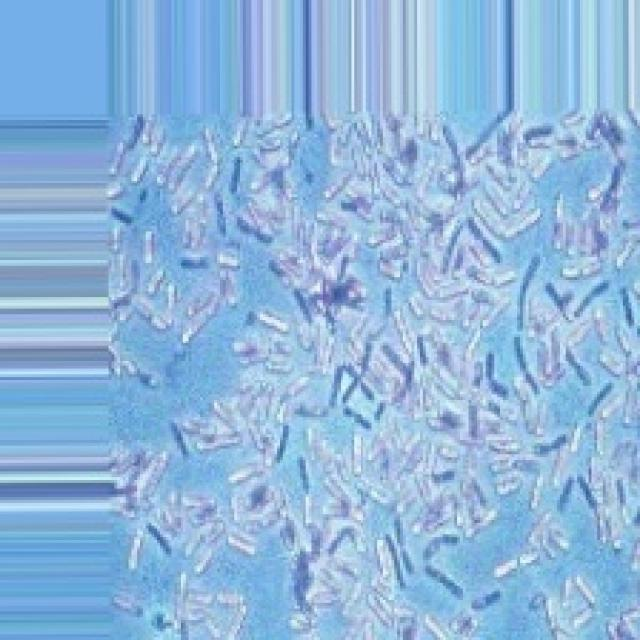Rod_bacteria: (100, 103, 637, 637)
